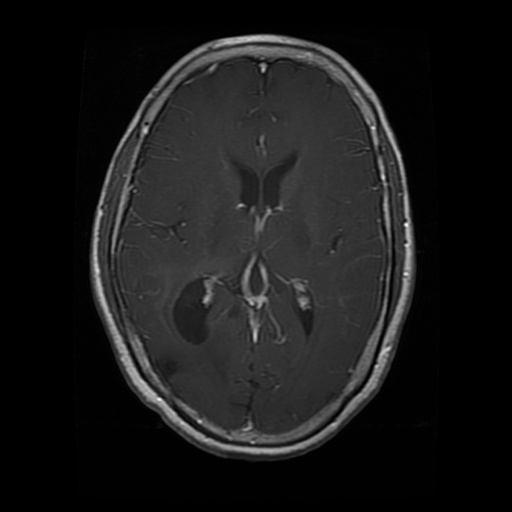glioma: (156, 357, 179, 379)
